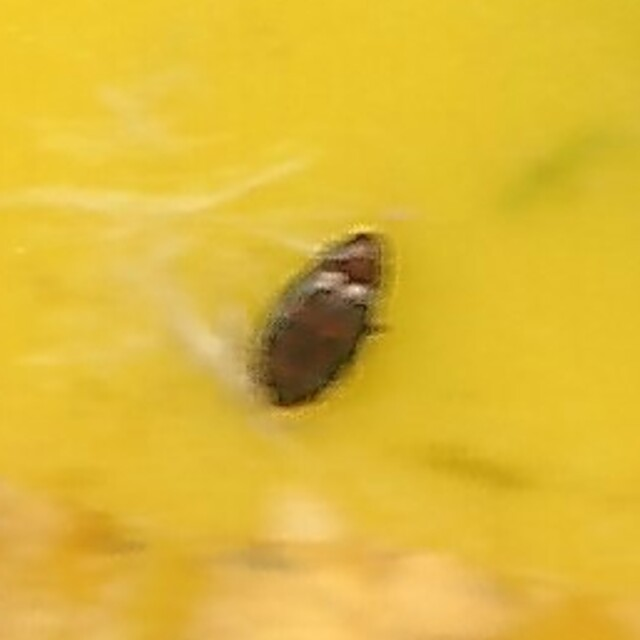Coleoptera: (249, 227, 391, 413)
